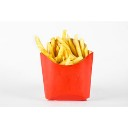frenchfries: (34, 30, 93, 63)
